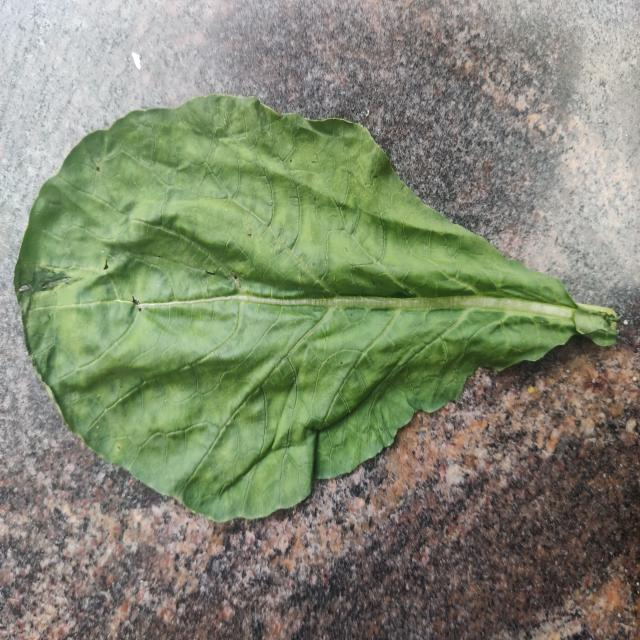raddish: (15, 95, 580, 520), (126, 2, 615, 303)
